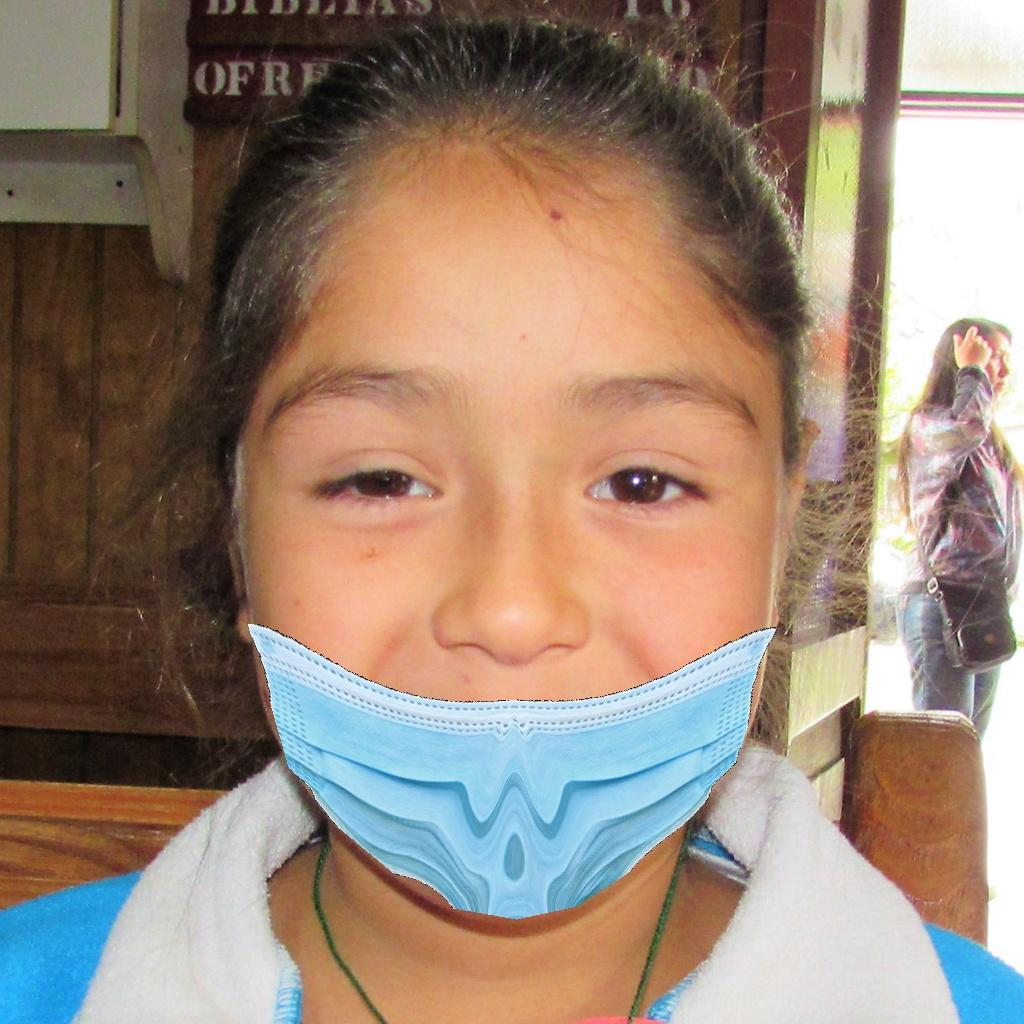Máscara Incorreta: (259, 173, 768, 906)
Sem Máscara: (981, 335, 1018, 404)
